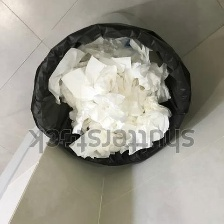tissue: (42, 32, 178, 164)
